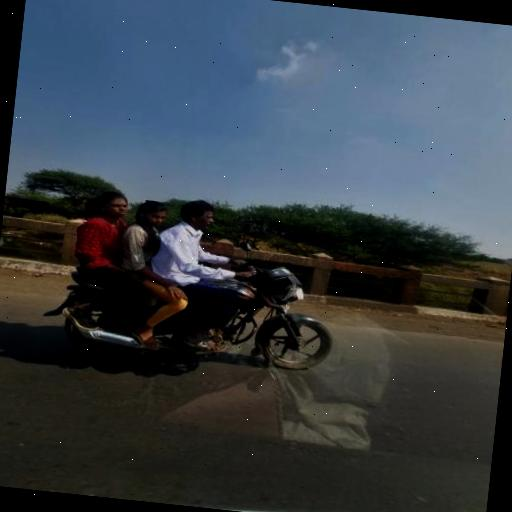no helmet: (144, 199, 250, 302)
triple riding: (68, 191, 345, 361)
